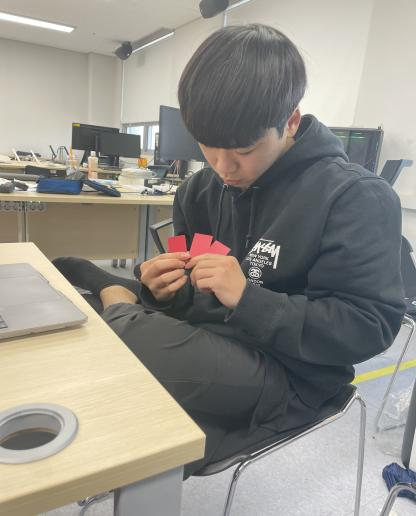ThreeHwatoo: (156, 222, 236, 260)
